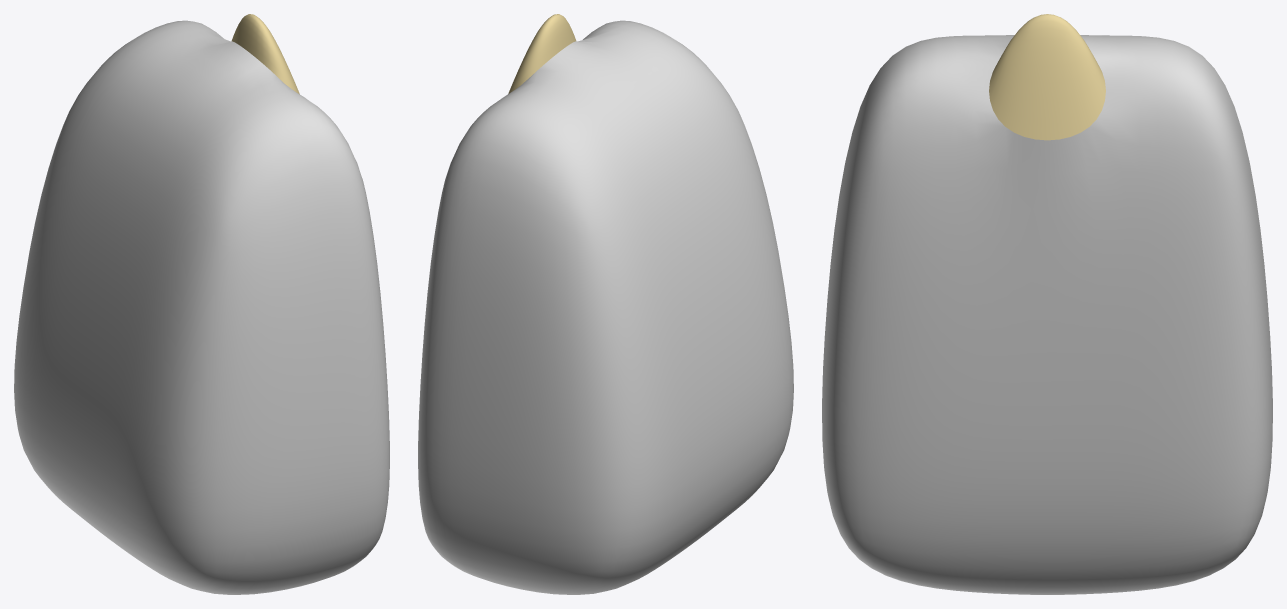
File: biji jagung.fbx
3 renders of one model, left to right at view 1: azimuth 30°, elevation 25°; view 2: azimuth 150°, elevation 25°; view 3: azimuth 270°, elevation 25°, orthographic. The views are drawn at different scales.
Visible parts, largest first — view 1: Cube; view 2: Cube; view 3: Cube.
Boxes of the visible parts, bbox=[...] form: Cube: bbox=[14, 14, 389, 594]; Cube: bbox=[418, 14, 793, 594]; Cube: bbox=[822, 14, 1272, 594].
Size of the model in its own units: 147 by 328 by 230.
